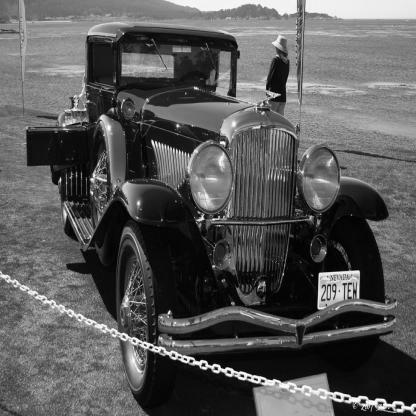car: (28, 1, 407, 400)
